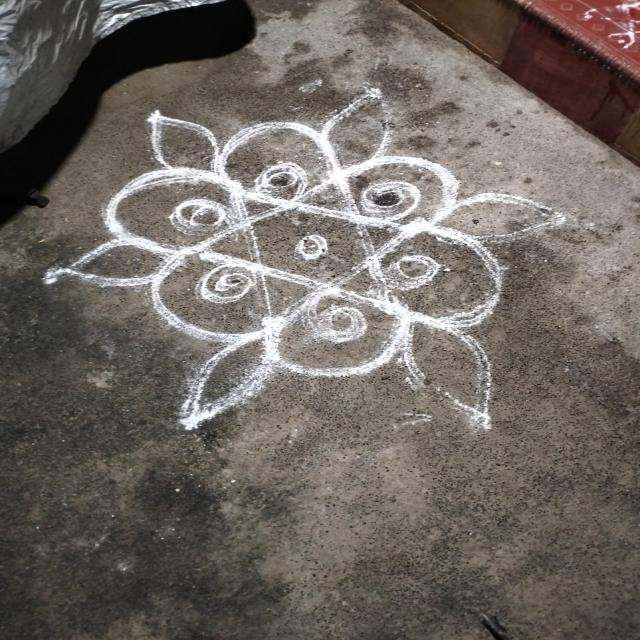rangoli: (0, 76, 638, 438)
